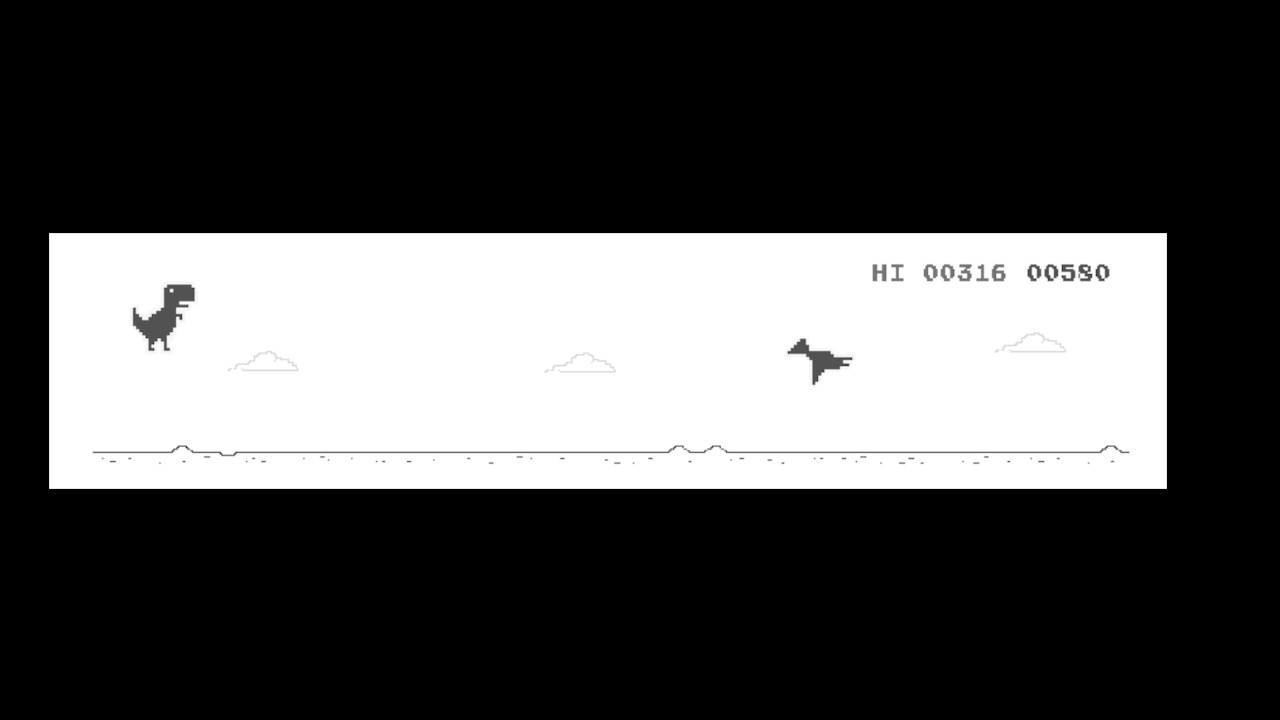dino: (130, 284, 195, 353)
highbird: (784, 339, 854, 488)
